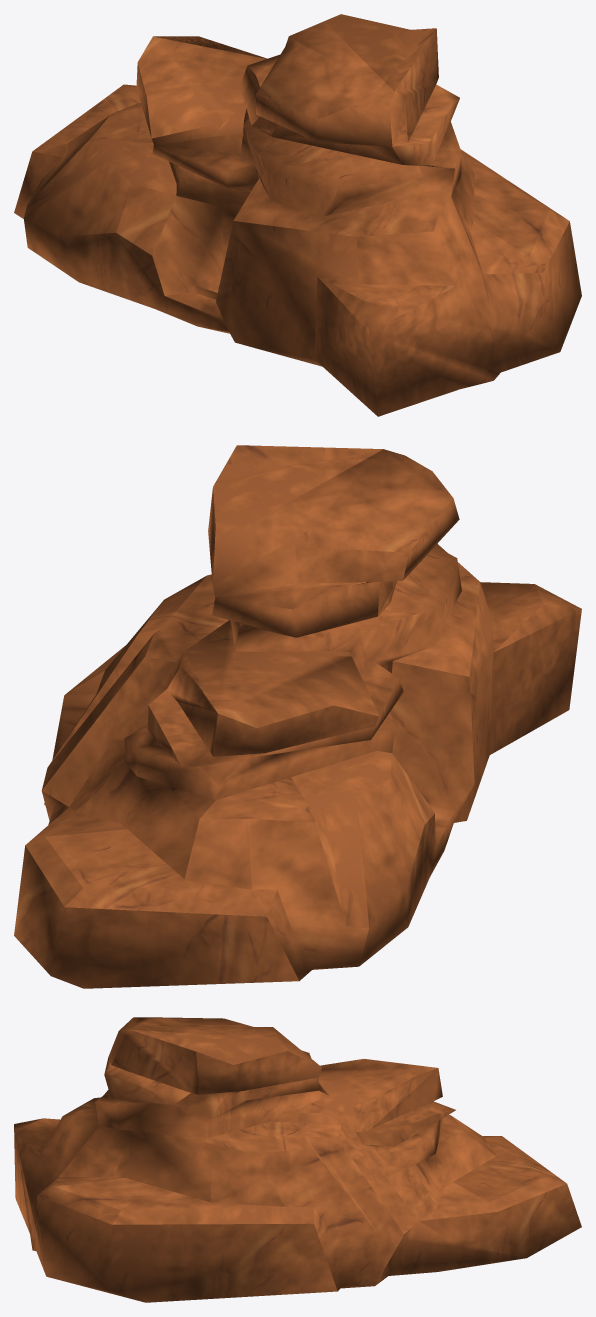
The model's file is rock9.fbx.
The picture shows the model from 3 angles, top to bottom: view 1: azimuth 30°, elevation 25°; view 2: azimuth 150°, elevation 25°; view 3: azimuth 270°, elevation 25°; orthographic projection. The views are drawn at different scales.
Parts seen in each view (by area): view 1: 9; view 2: 9; view 3: 9.
Boxes of the visible parts, x1,y1,x2,y2 form: 9: [14, 14, 581, 416]; 9: [14, 445, 581, 988]; 9: [14, 1017, 581, 1302].
Size of the model in its own units: 51.87 by 37.9 by 89.
Materials: 1 (1 with a texture image).
